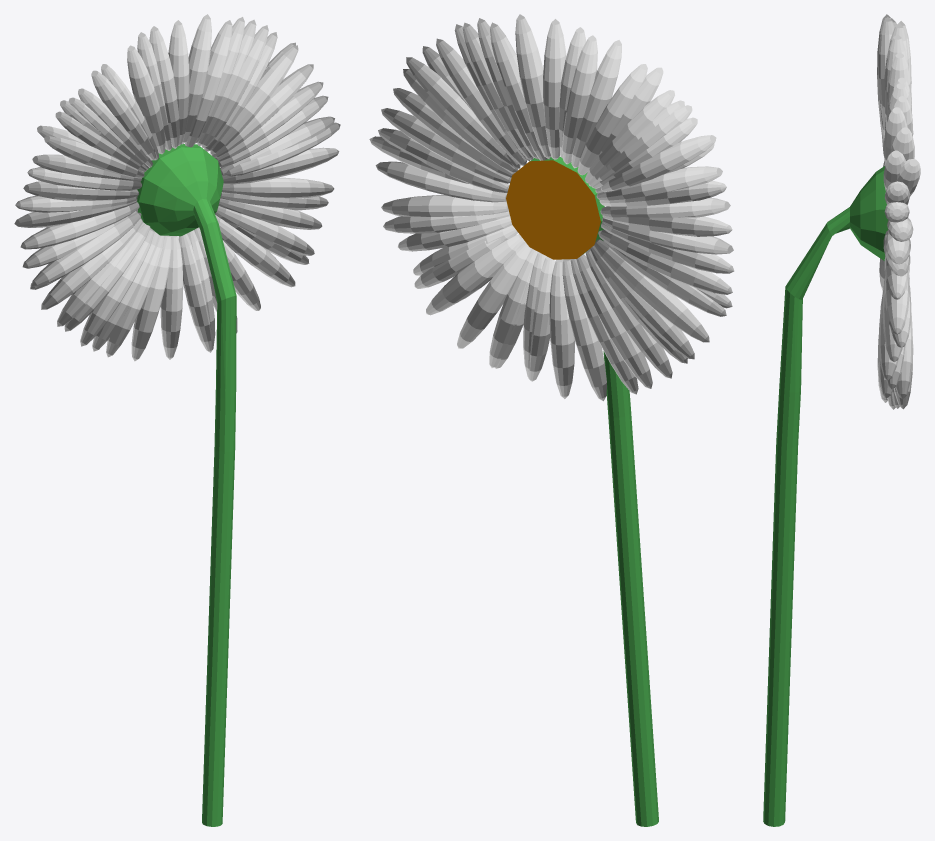
The model's file is Daisy.glb.
The picture shows the model from 3 angles, left to right: view 1: azimuth 30°, elevation 25°; view 2: azimuth 150°, elevation 25°; view 3: azimuth 270°, elevation 25°; orthographic projection. The views are drawn at different scales.
Visible parts, largest first — view 1: group87009174, group1492424143, group603342654, group1881477513, group718239893, group1734027403, group2064019557, group335765809, group128159101, group2060080001, group1807135897, group1741196456 (+37 smaller); view 2: group87009174, group1741196456, group2064019557, group718239893, group501607210, group1492424143, group1375157183, group420555038, group249798635, group1475190322, group1570968163, group814486344 (+39 smaller); view 3: group87009174, group1850751425, group1734027403, group249798635, group359668603, group2064019557, group325663288, group1811837873, group501607210, group1475190322, group1092918683, group603342654 (+11 smaller).
Boxes of the visible parts, <box> form: group87009174: <box>137,144,236,826</box>; group1492424143: <box>160,236,183,359</box>; group603342654: <box>210,45,298,154</box>; group1881477513: <box>31,212,141,286</box>; group718239893: <box>131,235,171,361</box>; group1734027403: <box>127,45,165,154</box>; group2064019557: <box>182,14,211,144</box>; group335765809: <box>178,233,213,352</box>; group128159101: <box>20,202,139,249</box>; group2060080001: <box>80,228,154,346</box>; group1807135897: <box>185,20,232,147</box>; group1741196456: <box>41,218,142,309</box>; group87009174: <box>506,156,658,826</box>; group1741196456: <box>594,239,709,342</box>; group2064019557: <box>515,14,550,159</box>; group718239893: <box>562,259,606,401</box>; group501607210: <box>406,57,512,166</box>; group1492424143: <box>549,259,574,398</box>; group1375157183: <box>576,254,652,388</box>; group420555038: <box>457,242,531,348</box>; group249798635: <box>426,234,521,315</box>; group1475190322: <box>543,19,566,159</box>; group1570968163: <box>436,38,526,165</box>; group814486344: <box>562,35,597,164</box>; group87009174: <box>763,166,888,826</box>; group1850751425: <box>884,275,909,334</box>; group1734027403: <box>879,17,894,125</box>; group249798635: <box>895,313,912,399</box>; group359668603: <box>884,107,907,165</box>; group2064019557: <box>887,52,911,122</box>; group325663288: <box>879,286,898,380</box>; group1811837873: <box>884,256,909,299</box>; group501607210: <box>896,159,920,196</box>; group1475190322: <box>885,34,908,126</box>; group1092918683: <box>885,231,910,264</box>; group603342654: <box>883,150,905,190</box>.
Size of the model in its own units: 1.88 by 4.17 by 0.7431.
